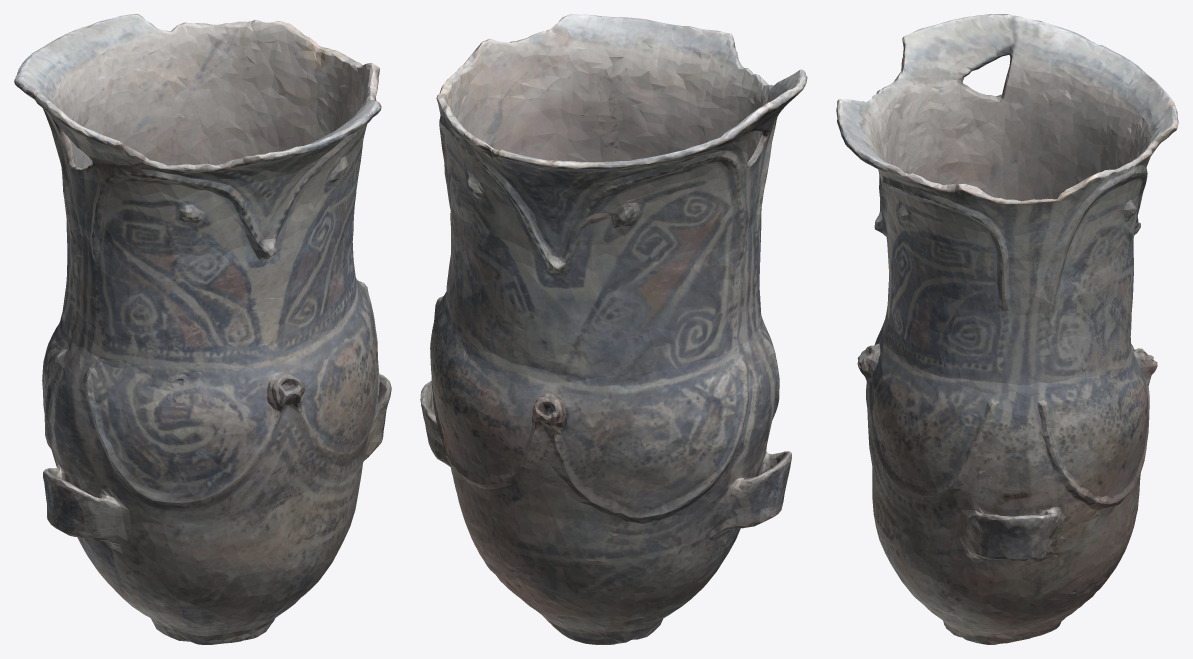
The picture shows the model from 3 angles, left to right: view 1: azimuth 30°, elevation 25°; view 2: azimuth 150°, elevation 25°; view 3: azimuth 270°, elevation 25°; orthographic projection. The views are drawn at different scales.
Visible parts, largest first — view 1: MA5456; view 2: MA5456; view 3: MA5456.
Part boxes in pixels (x1,y1,x2,y2): MA5456: (14,14,391,644); MA5456: (420,14,807,644); MA5456: (836,14,1178,644).
Size of the model in its own units: 2.22 by 3.41 by 1.99.
Materials: 1 (1 with a texture image).
